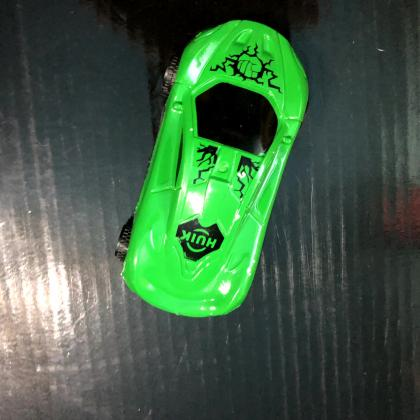Car: (110, 18, 312, 322)
